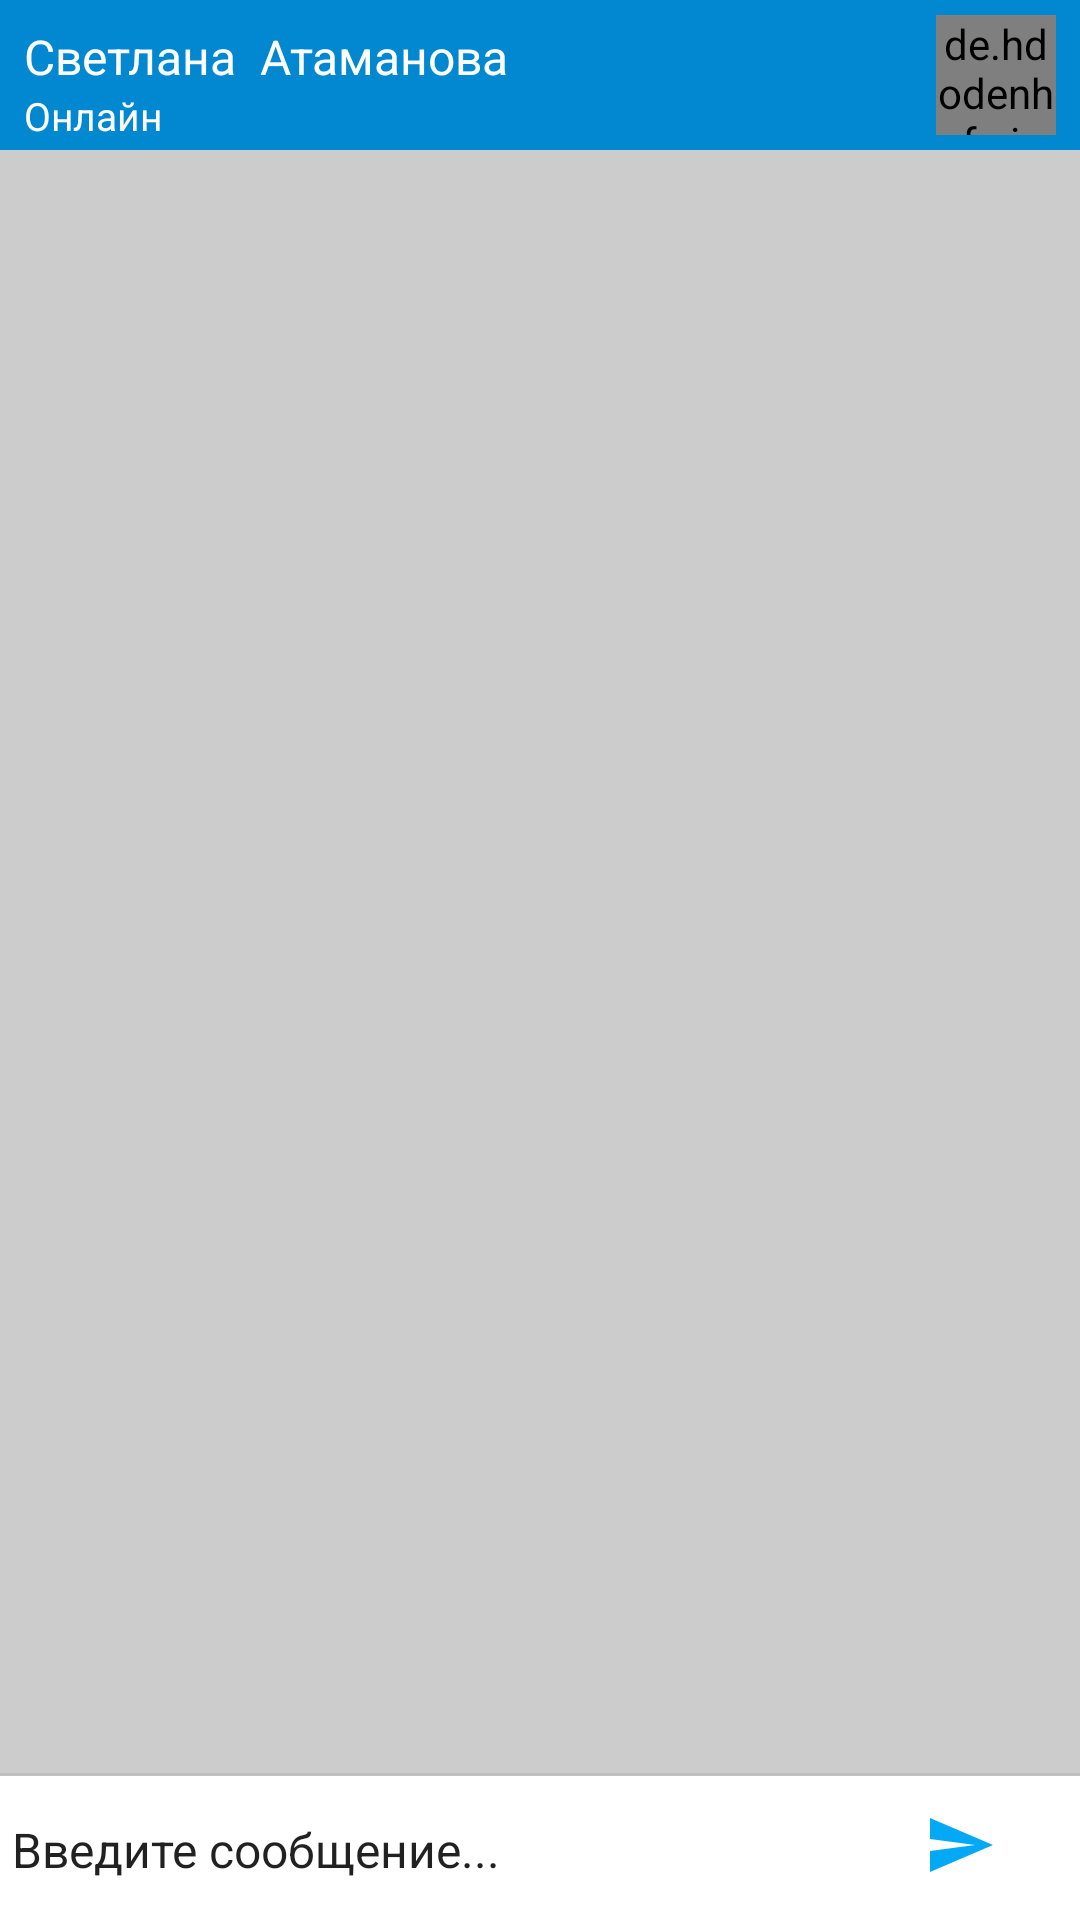

Screen size 1080w x 1920h. Icon name, then its center in pixels as (x=x, y=y):
send messege: (x=961, y=1845)
